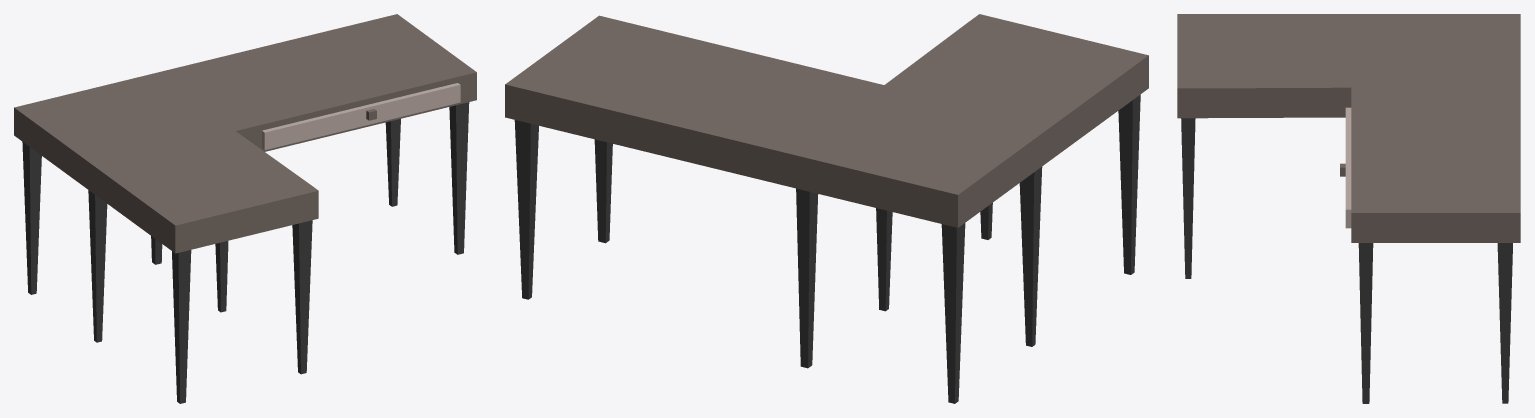
Rendered from Sem_Bureau_Color.fbx.
The picture shows the model from 3 angles, left to right: view 1: azimuth 30°, elevation 25°; view 2: azimuth 150°, elevation 25°; view 3: azimuth 270°, elevation 25°; orthographic projection. The views are drawn at different scales.
Visible parts, largest first — view 1: pCube4; view 2: pCube4; view 3: pCube4.
Part boxes in pixels (bbox=[...]): pCube4: bbox=[14, 14, 476, 403]; pCube4: bbox=[505, 14, 1148, 403]; pCube4: bbox=[1177, 14, 1520, 403].
Bounding box in the file's own units: 10.35 × 4.73 × 7.55.
